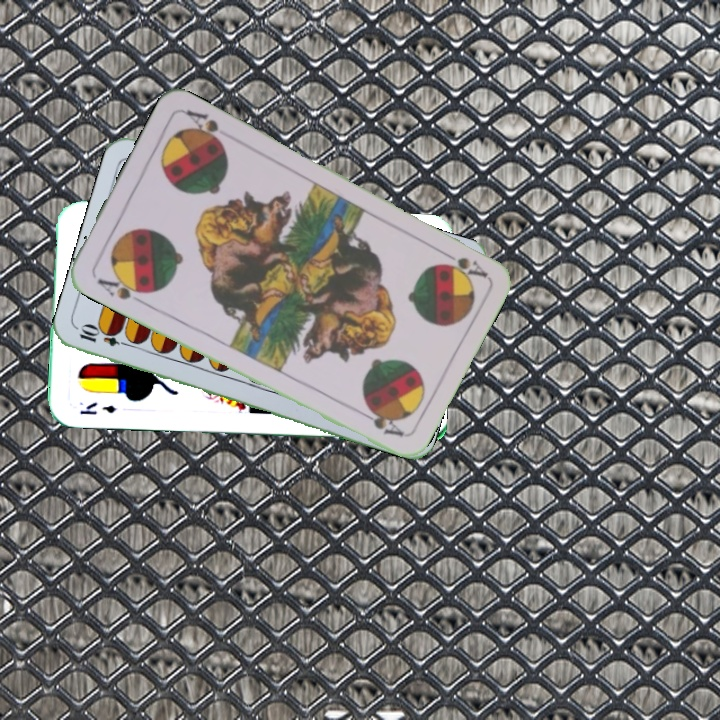E10: (75, 323, 134, 350)
EK: (75, 398, 118, 418)
SA: (93, 271, 150, 307), (434, 245, 490, 281)
